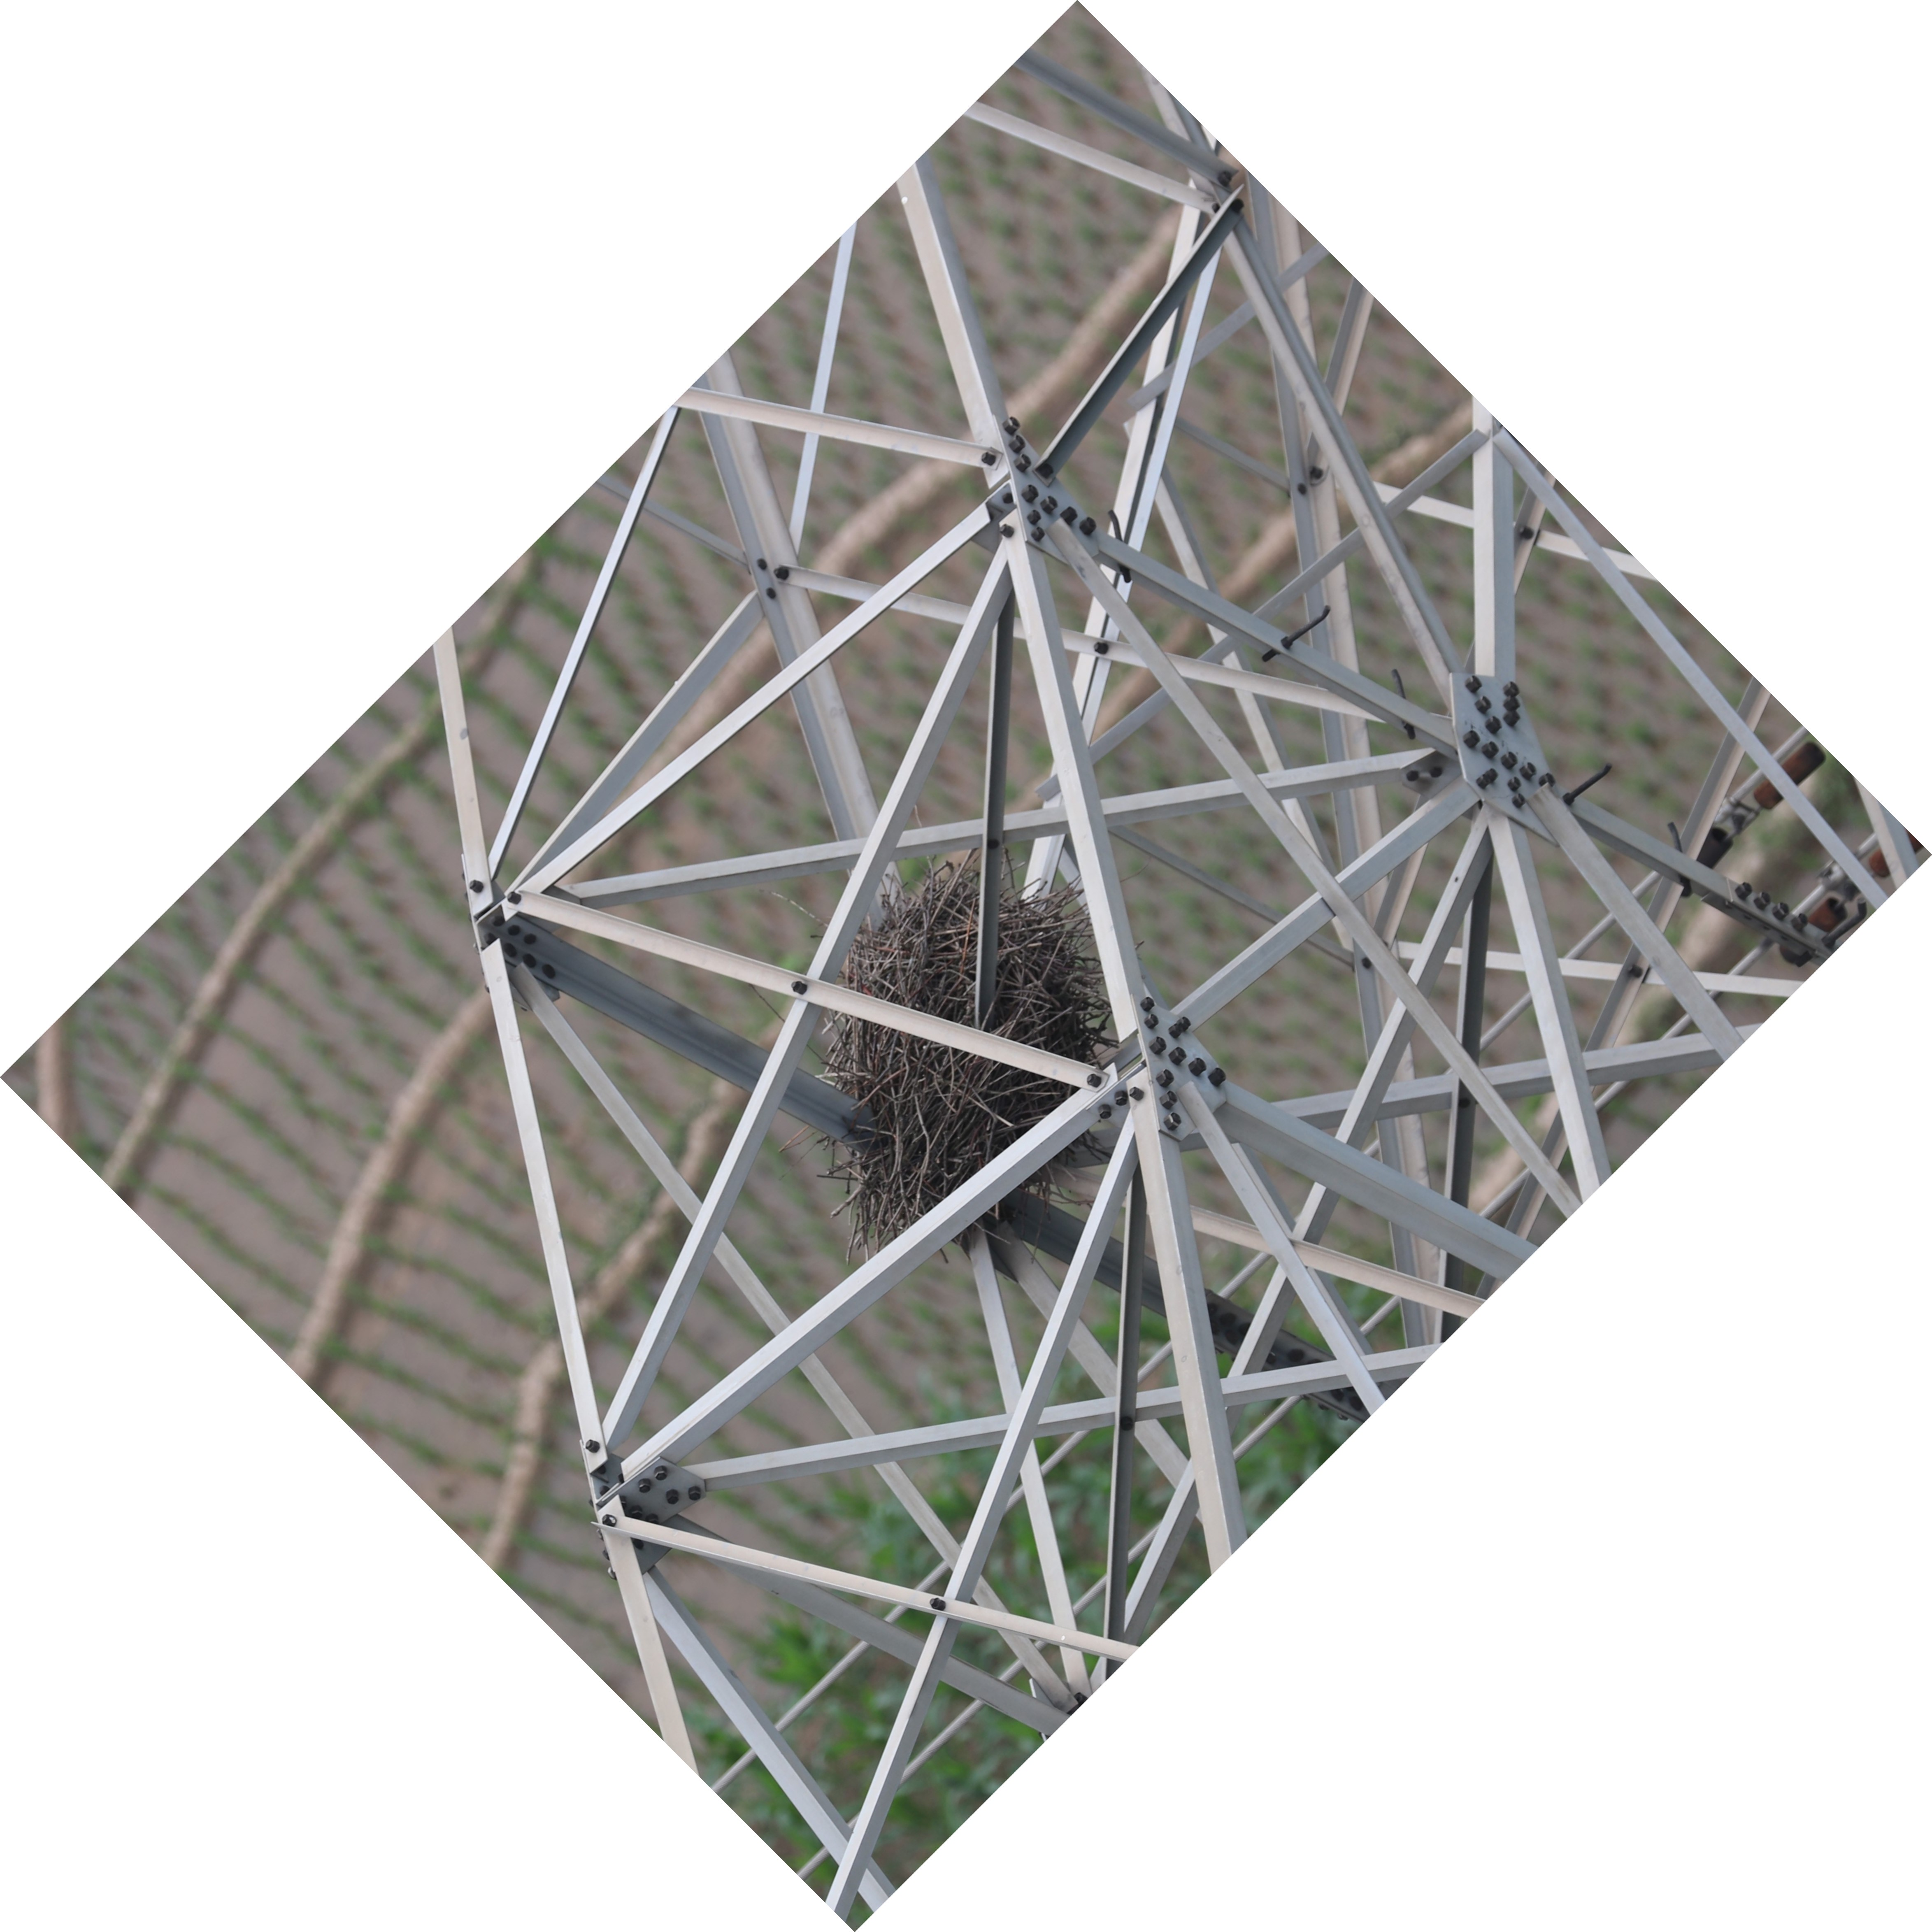niaowo: (775, 865, 1127, 1274)
